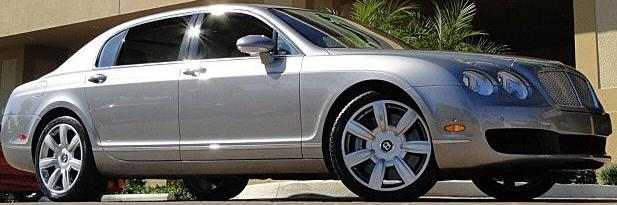front_view: (434, 50, 615, 180)
headlight: (453, 61, 537, 105)
side_glass: (92, 7, 300, 72)
